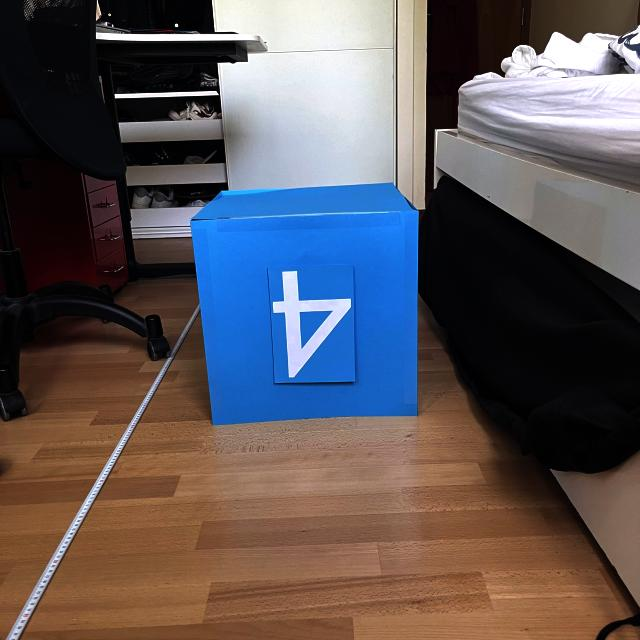box: (186, 179, 423, 427)
